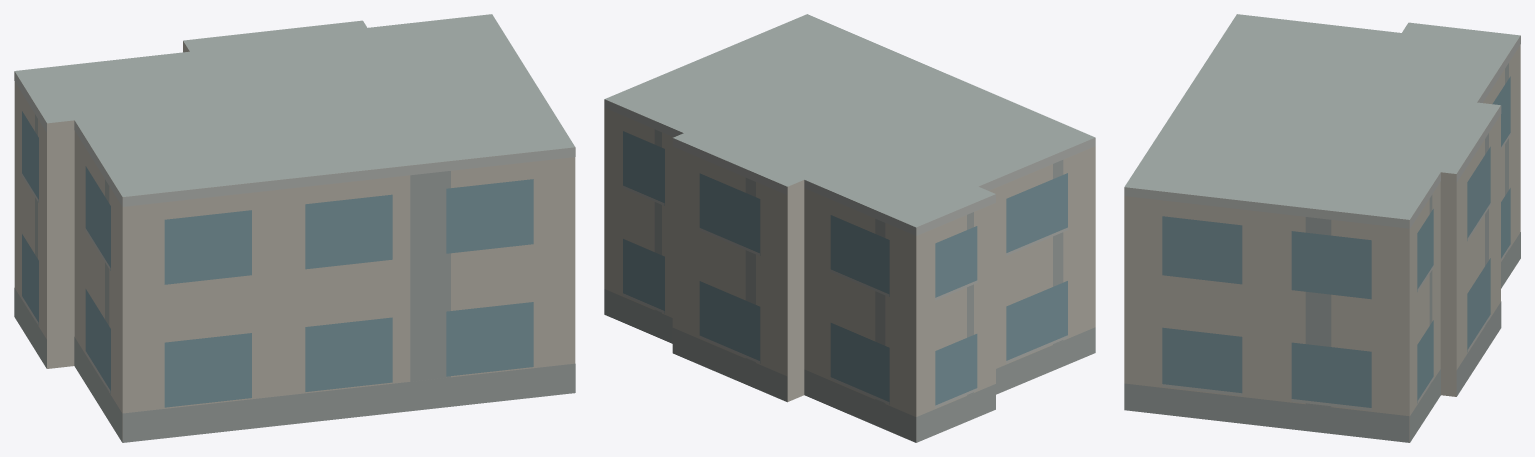
Rendered from residential-dc600d9f-40c1-416c-932c-90e46e18e49c.glb.
3 views of the same model, side by side, from view 1: azimuth 30°, elevation 25°; view 2: azimuth 150°, elevation 25°; view 3: azimuth 270°, elevation 25° (orthographic). The views are drawn at different scales.
Visible parts, largest first — view 1: residential-dc600d9f-40c1-416c-932c-90e46e18e49c.tmp; view 2: residential-dc600d9f-40c1-416c-932c-90e46e18e49c.tmp; view 3: residential-dc600d9f-40c1-416c-932c-90e46e18e49c.tmp.
Part boxes in pixels (left/top/right/bottom): residential-dc600d9f-40c1-416c-932c-90e46e18e49c.tmp: left=14, top=14, right=575, bottom=442; residential-dc600d9f-40c1-416c-932c-90e46e18e49c.tmp: left=604, top=14, right=1095, bottom=442; residential-dc600d9f-40c1-416c-932c-90e46e18e49c.tmp: left=1124, top=14, right=1520, bottom=442.
Bounding box in the file's own units: 12.09 × 6.1 × 9.84.
